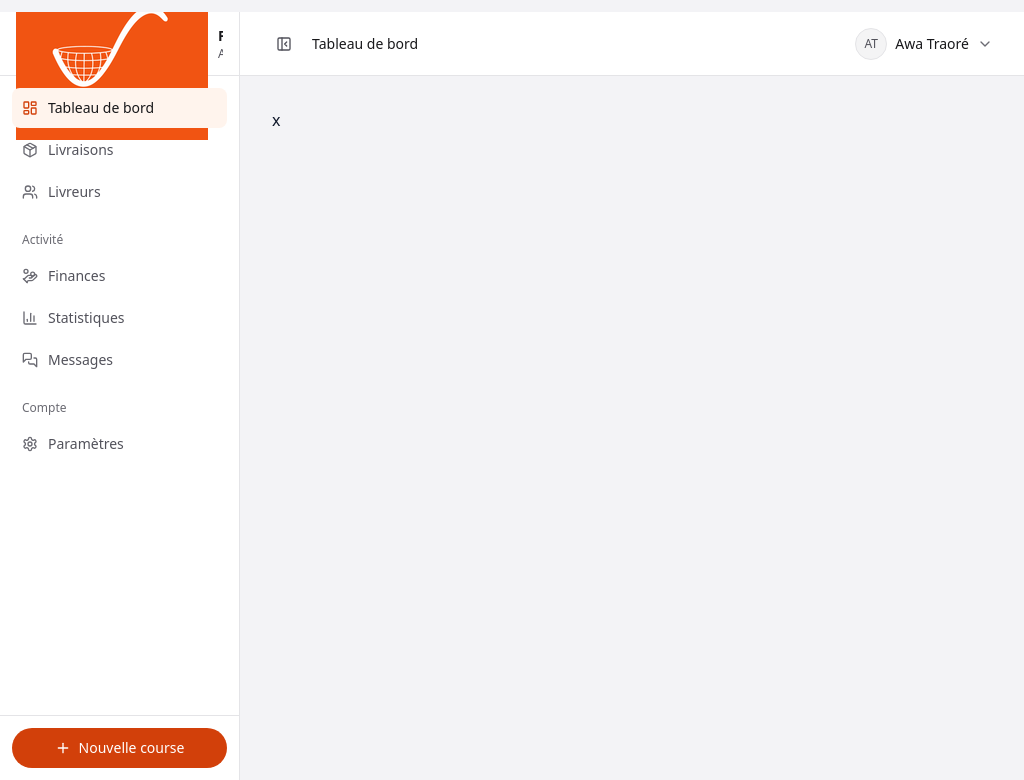
Test: AppShell — the main action of a space › keeps its name on the icon rail
The width and height of the screenshot is (1024, 780).
Click the button named "Réduire le menu".
click(284, 44)  # box [264,24,304,64]
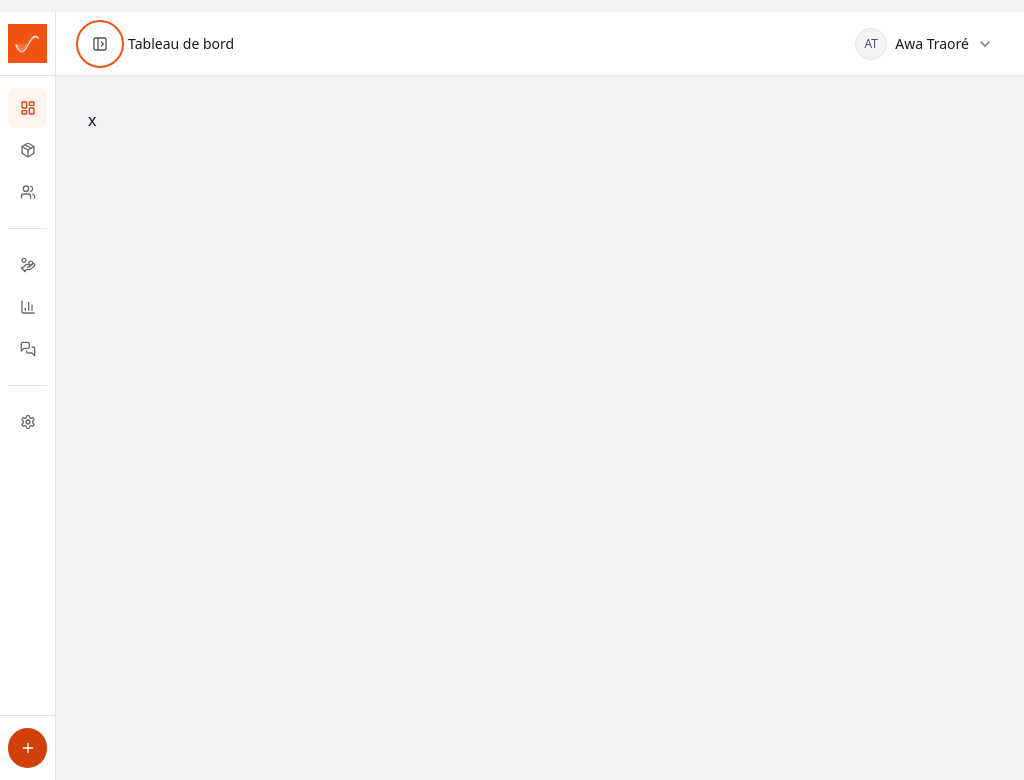
Result: the link named "Nouvelle course" no longer shows "Nouvelle course" at [8,728,47,768]
